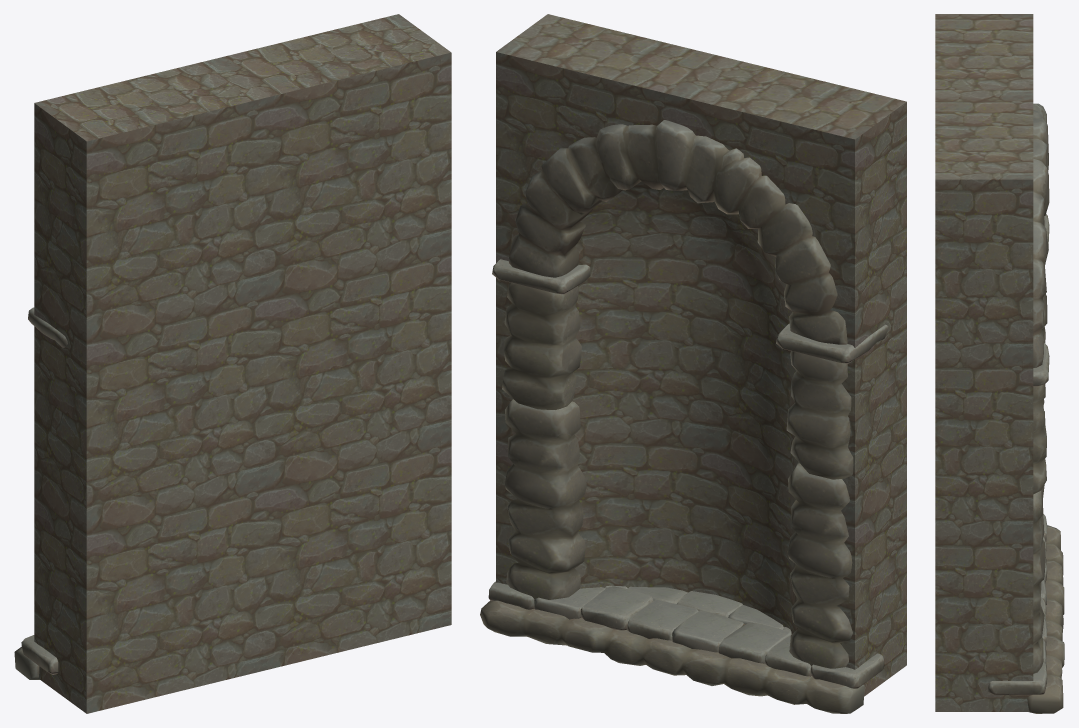
The model's file is SM_FW01_Ruins_Int_Wall_B_4x6_01.fbx.
3 views of the same model, side by side, from view 1: azimuth 30°, elevation 25°; view 2: azimuth 150°, elevation 25°; view 3: azimuth 270°, elevation 25° (orthographic). The views are drawn at different scales.
Visible parts, largest first — view 1: SM_FW01_Ruins_Int_Wall_B_4x6_01, SM_FW01_Ruins_Int_Wall_B_4x6_01_LOD0; view 2: SM_FW01_Ruins_Int_Wall_B_4x6_01, SM_FW01_Ruins_Int_Wall_B_4x6_01_LOD0; view 3: SM_FW01_Ruins_Int_Wall_B_4x6_01, SM_FW01_Ruins_Int_Wall_B_4x6_01_LOD0.
Boxes of the visible parts, left/top/right/bottom form: SM_FW01_Ruins_Int_Wall_B_4x6_01: left=34, top=14, right=451, bottom=713; SM_FW01_Ruins_Int_Wall_B_4x6_01_LOD0: left=14, top=307, right=67, bottom=679; SM_FW01_Ruins_Int_Wall_B_4x6_01: left=496, top=14, right=906, bottom=696; SM_FW01_Ruins_Int_Wall_B_4x6_01_LOD0: left=480, top=120, right=888, bottom=713; SM_FW01_Ruins_Int_Wall_B_4x6_01: left=935, top=14, right=1033, bottom=711; SM_FW01_Ruins_Int_Wall_B_4x6_01_LOD0: left=987, top=103, right=1064, bottom=713.
Size of what is drawn, in the model's own units: 4.13 by 6.06 by 1.32.
